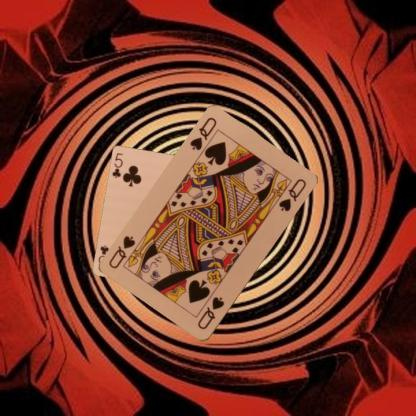5c: (110, 151, 124, 179)
Qs: (195, 294, 226, 331), (188, 115, 218, 153)
